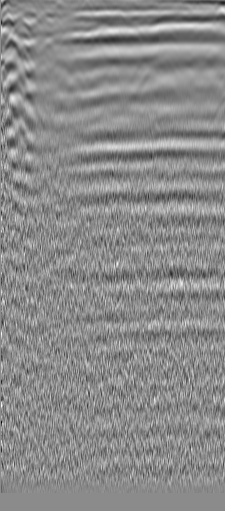가스: (213, 127, 225, 147)
오수: (11, 14, 31, 34)
우수: (153, 15, 173, 35)
